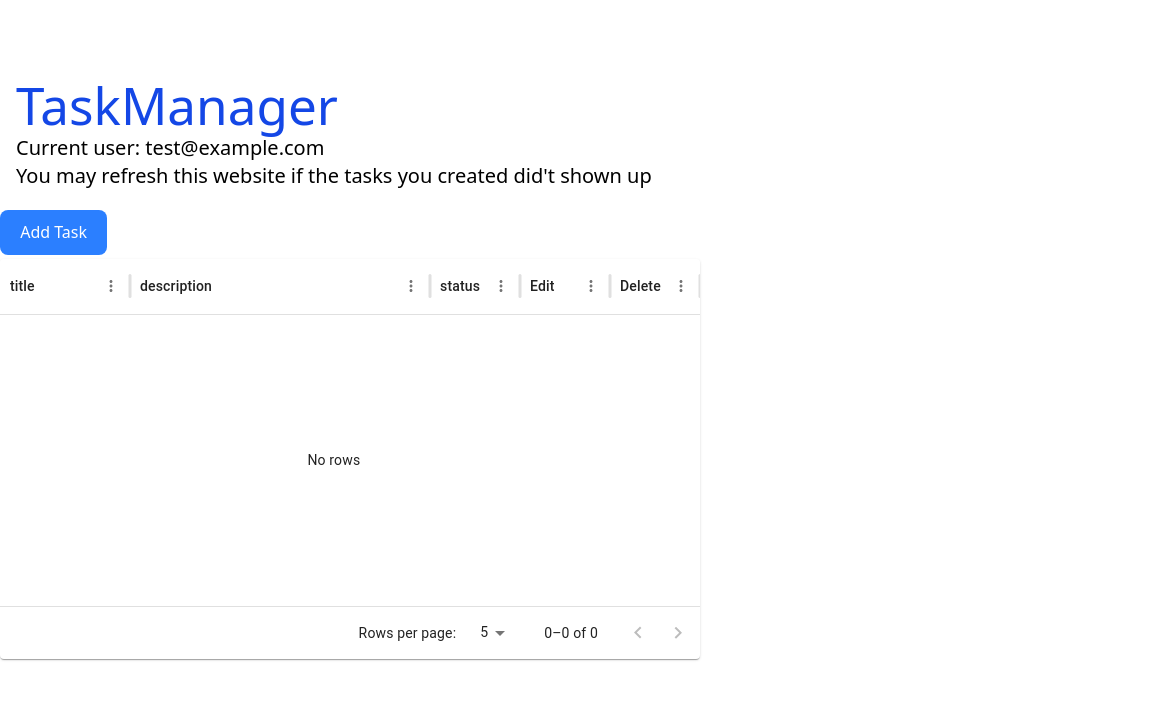
Test case: TaskManager Component › should open the modal with empty values when Add Task button is clicked
Click the Add Task button
What coordinates should you click on to do the following:
click the button "Add Task"
I would click on:
 (54, 232)
Its box is [0, 210, 107, 255].
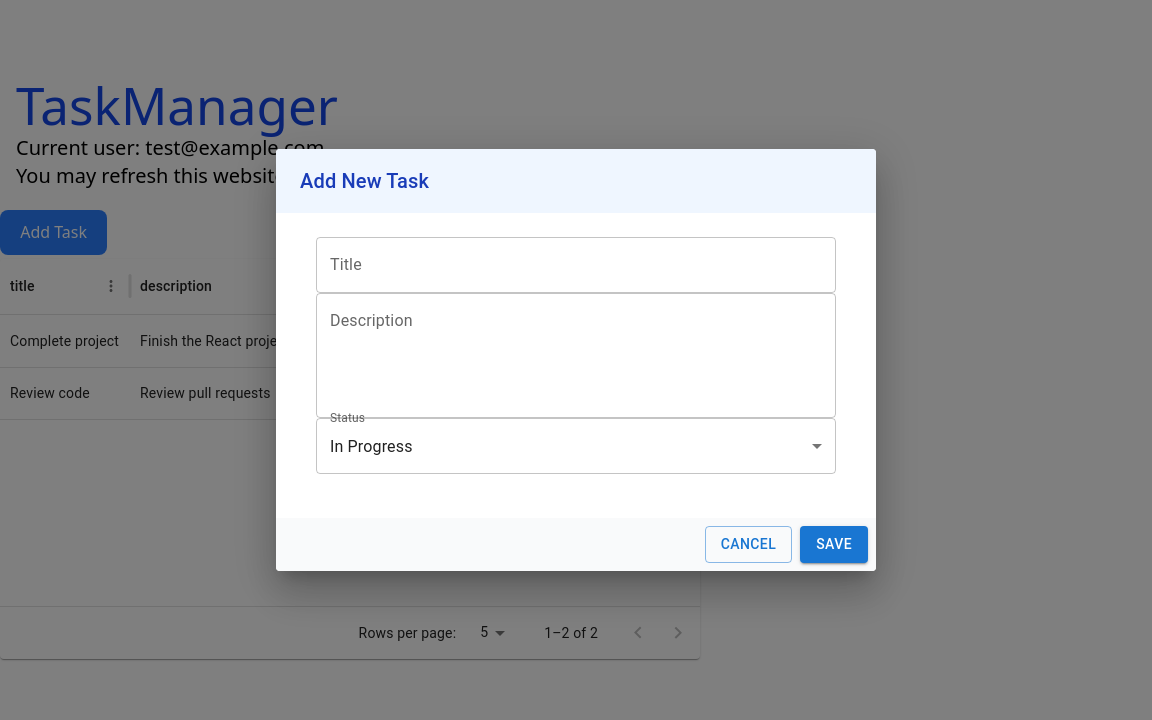
Check: the heading "Add New Task" is shown, box [276, 149, 876, 213]
Check: the field is empty, box [316, 237, 836, 293]
Check: the text box is empty, box [330, 310, 822, 402]
